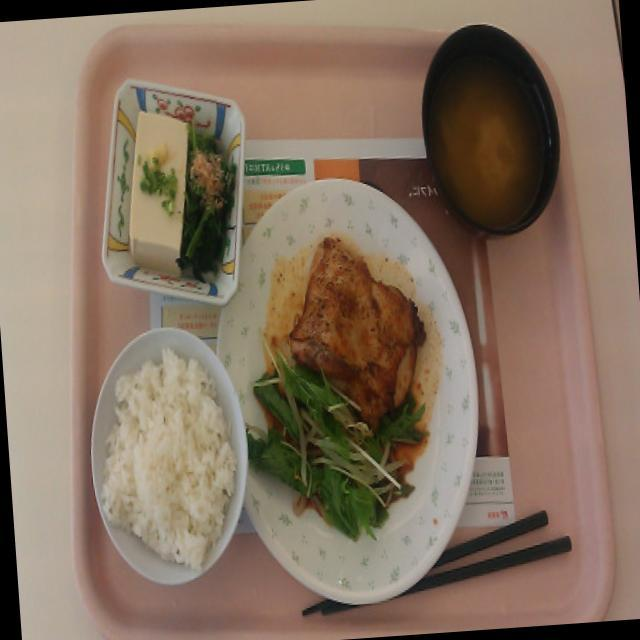Rice: (92, 341, 245, 560)
